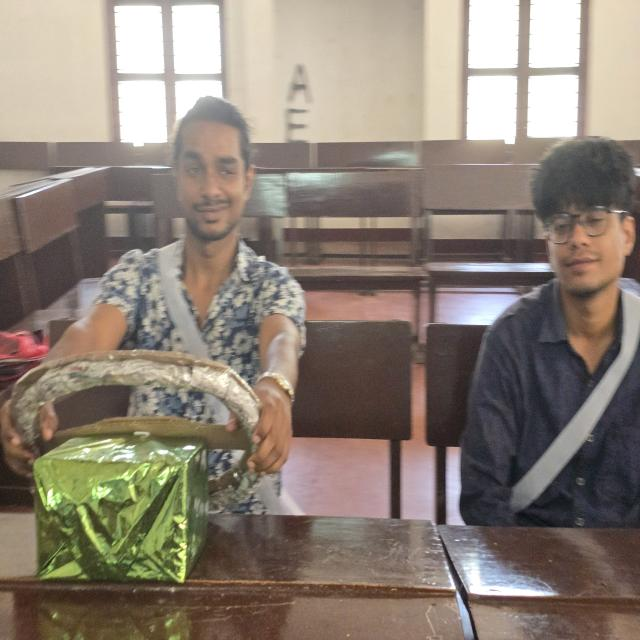seatbelt: (490, 301, 640, 518), (125, 242, 286, 352)
